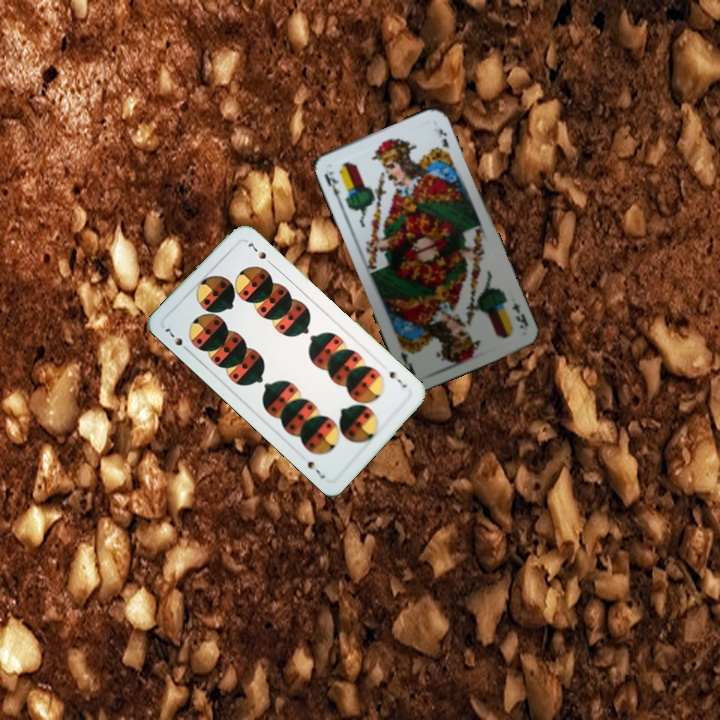EK: (320, 166, 344, 205), (508, 298, 531, 332)
S7: (160, 321, 192, 355), (385, 366, 410, 390)
